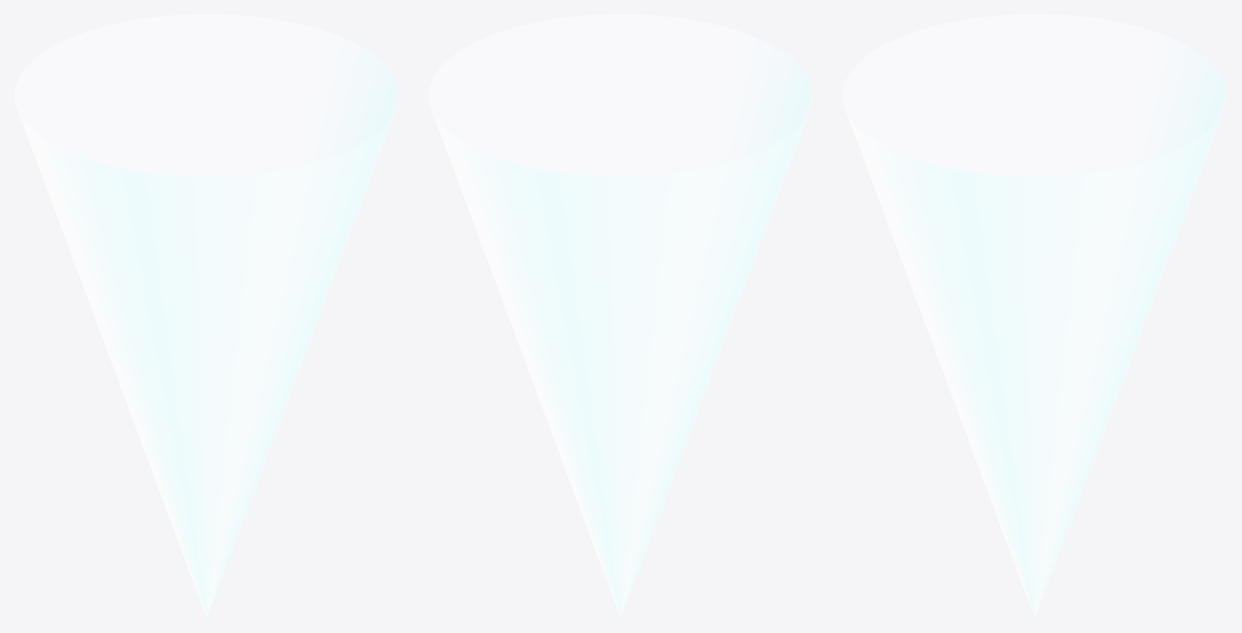
File: holoblend.fbx
The picture shows the model from 3 angles, left to right: view 1: azimuth 30°, elevation 25°; view 2: azimuth 150°, elevation 25°; view 3: azimuth 270°, elevation 25°; orthographic projection.
Visible parts, largest first — view 1: Cone.001; view 2: Cone.001; view 3: Cone.001.
Part boxes in pixels (x1,y1,x2,y2): Cone.001: (14,14,399,617); Cone.001: (428,14,813,617); Cone.001: (842,14,1227,617).
Bounding box in the file's own units: 400 × 600 × 400.
